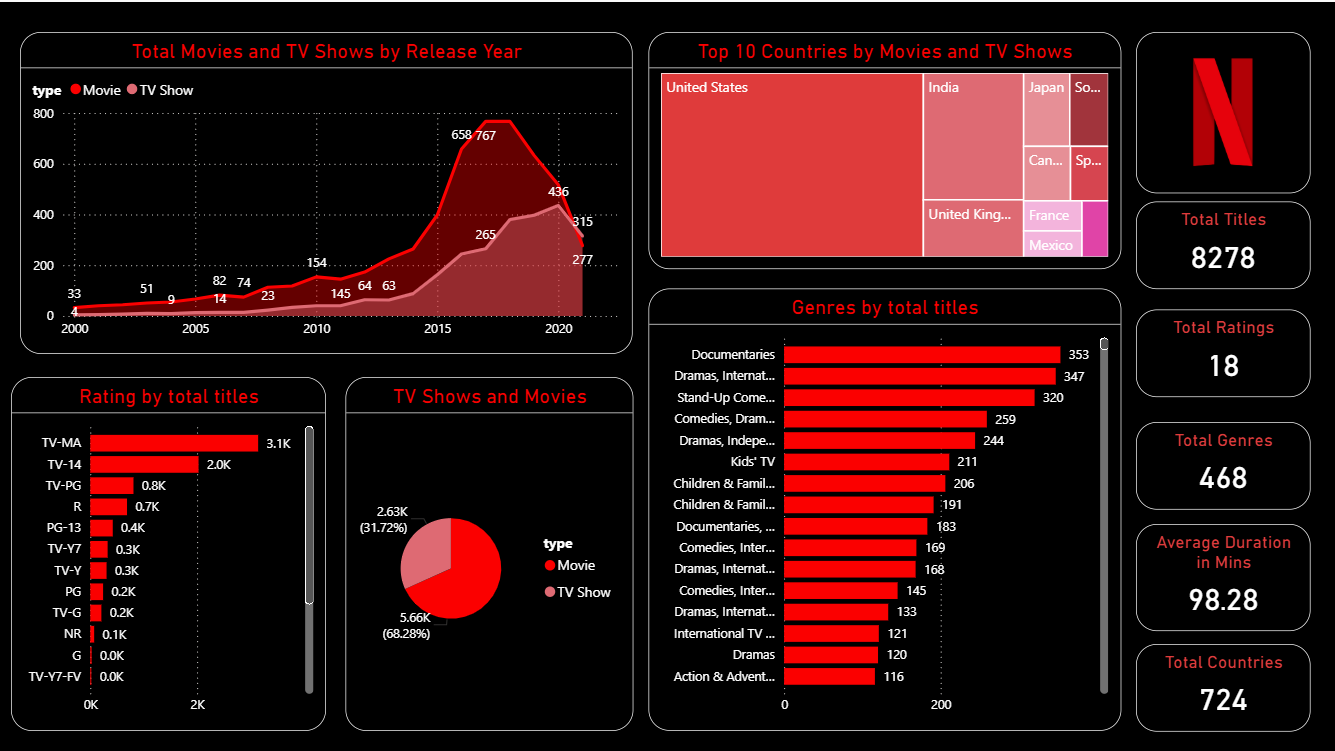

This screenshot's page, from the dashboard's own definition file:
{"tool":"powerbi","page":{"name":"Page 1","canvas":[1280,720],"ordinal":0},"visuals":[{"type":"pieChart","title":"TV Shows and Movies ","fields":{"Y":["Count(netflix_titles.show_id)"],"Category":["netflix_titles.type"]},"box":[332.2,359.5,276.1,339.4],"z":0},{"type":"barChart","title":"Rating by total titles","fields":{"Category":["netflix_titles.rating"],"Y":["Count(netflix_titles.show_id)"]},"box":[11.5,359.5,302,339.4],"z":1},{"type":"barChart","title":"Genres by total titles ","fields":{"Category":["netflix_titles.listed_in"],"Y":["Count(netflix_titles.show_id)"]},"box":[622.7,274.7,453,424.2],"z":2},{"type":"areaChart","title":"Total Movies and TV Shows by Release Year","fields":{"Category":["netflix_titles.release_year"],"Y":["Count(netflix_titles.show_id)"],"Series":["netflix_titles.type"]},"box":[19.7,28.8,587.5,308.9],"z":3},{"type":"treemap","title":"Top 10 Countries by Movies and TV Shows","fields":{"Group":["netflix_titles.country"],"Values":["Count(netflix_titles.show_id)"]},"box":[622.7,28.8,453,227.2],"z":4},{"type":"image","box":[1089.5,28.4,167.4,154.7],"z":5},{"type":"card","title":"Total Titles","fields":{"Values":["Count(netflix_titles.title)"]},"box":[1089.5,191.1,167.4,83.7],"z":6},{"type":"card","title":"Total Genres","fields":{"Values":["Count(netflix_titles.listed_in)"]},"box":[1089.5,402.6,167.4,83.7],"z":7},{"type":"card","title":"Total Ratings","fields":{"Values":["Count(netflix_titles.rating)"]},"box":[1089.5,295.3,167.4,83.7],"z":8},{"type":"card","title":"Average Duration in Mins","fields":{"Values":["Avg(netflix_titles.Duration in Mins)"]},"box":[1089.5,500.5,167.4,102.6],"z":9},{"type":"card","title":"Total Countries","fields":{"Values":["Count(netflix_titles.country)"]},"box":[1089.5,615.8,167.4,83.7],"z":10}]}

Visuals, with their boxes in screenshot pixels (x1, y1, x2, y2), scaled from the page's 1280x720 canvas onto the 1335x751 screenshot:
"TV Shows and Movies " pieChart: x1=346, y1=375, x2=634, y2=729
"Rating by total titles" barChart: x1=12, y1=375, x2=327, y2=729
"Genres by total titles " barChart: x1=649, y1=287, x2=1122, y2=729
"Total Movies and TV Shows by Release Year" areaChart: x1=21, y1=30, x2=633, y2=352
"Top 10 Countries by Movies and TV Shows" treemap: x1=649, y1=30, x2=1122, y2=267
image: x1=1136, y1=30, x2=1311, y2=191
"Total Titles" card: x1=1136, y1=199, x2=1311, y2=287
"Total Genres" card: x1=1136, y1=420, x2=1311, y2=507
"Total Ratings" card: x1=1136, y1=308, x2=1311, y2=395
"Average Duration in Mins" card: x1=1136, y1=522, x2=1311, y2=629
"Total Countries" card: x1=1136, y1=642, x2=1311, y2=730
